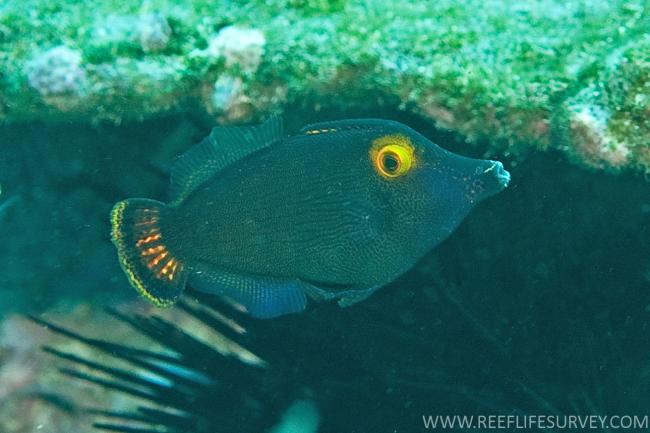fish: (109, 112, 510, 320)
